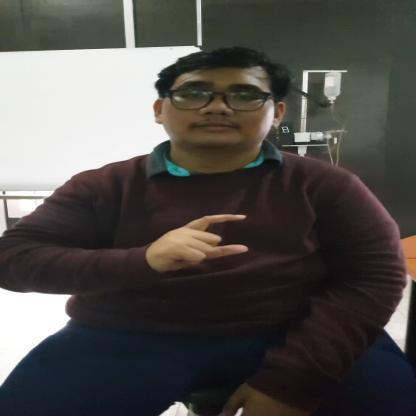C: (150, 213, 252, 268)
